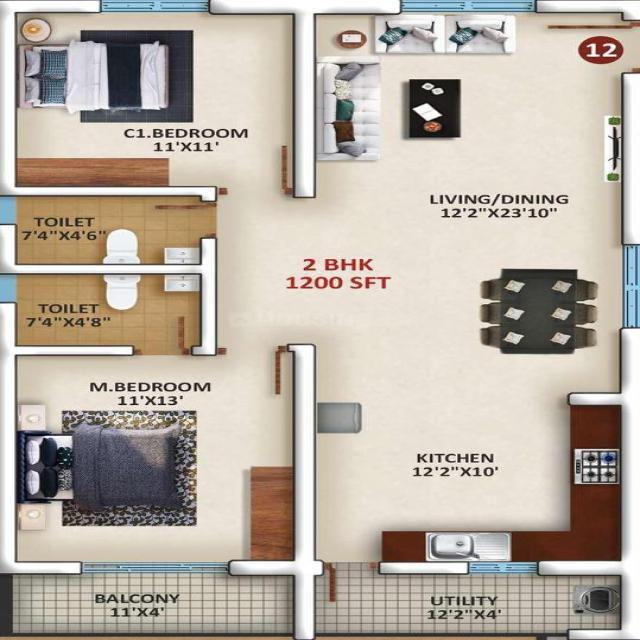Balcony-Sitout: (11, 578, 292, 638)
Bedroom: (16, 16, 291, 190)
Bedroom with Toilet: (16, 274, 292, 559)
Dining: (473, 258, 607, 366)
Enterance-Foyer: (523, 26, 640, 75)
Kitchen: (320, 407, 620, 560)
Living: (318, 17, 615, 240)
Toilet: (16, 274, 195, 345), (15, 198, 195, 263)
Utility: (318, 579, 615, 630)
